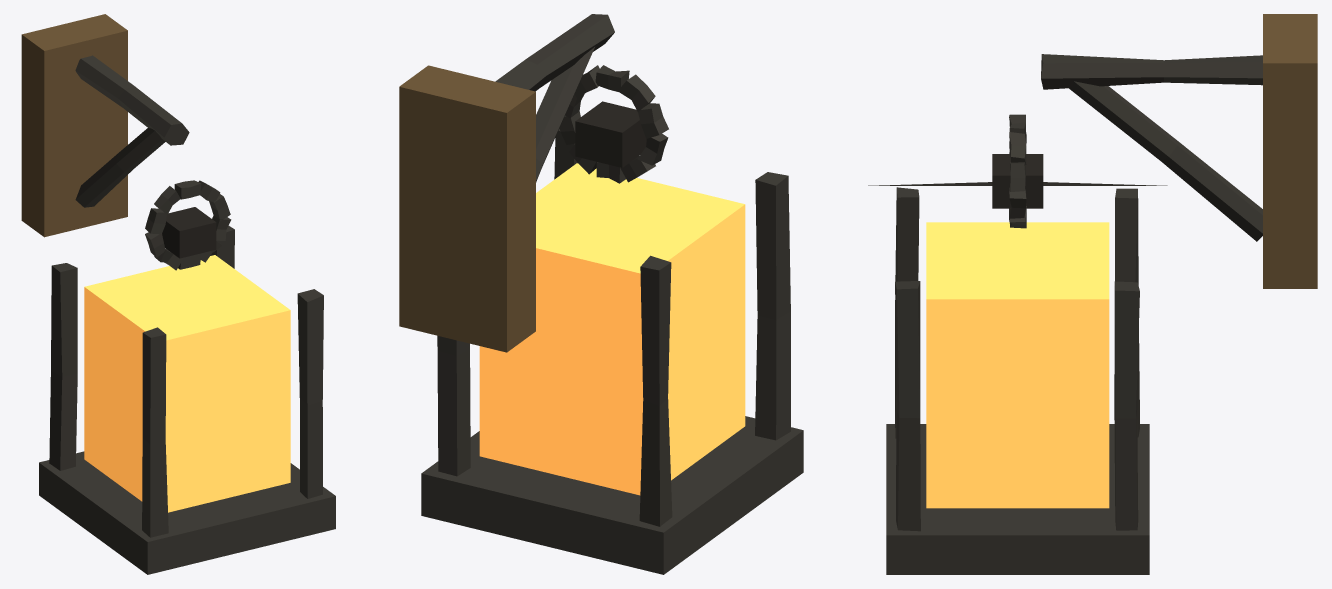
The model's file is farm_Lantern_wall.glb.
3 views of the same model, side by side, from view 1: azimuth 30°, elevation 25°; view 2: azimuth 150°, elevation 25°; view 3: azimuth 270°, elevation 25° (orthographic). The views are drawn at different scales.
Parts seen in each view (by area): view 1: farm_Lantern_wall.001; view 2: farm_Lantern_wall.001; view 3: farm_Lantern_wall.001.
Part boxes in pixels (x1,y1,x2,y2): farm_Lantern_wall.001: (21,14,335,574); farm_Lantern_wall.001: (399,14,803,574); farm_Lantern_wall.001: (868,14,1317,574).
Bounding box in the file's own units: 0.42 × 0.725 × 0.62.
